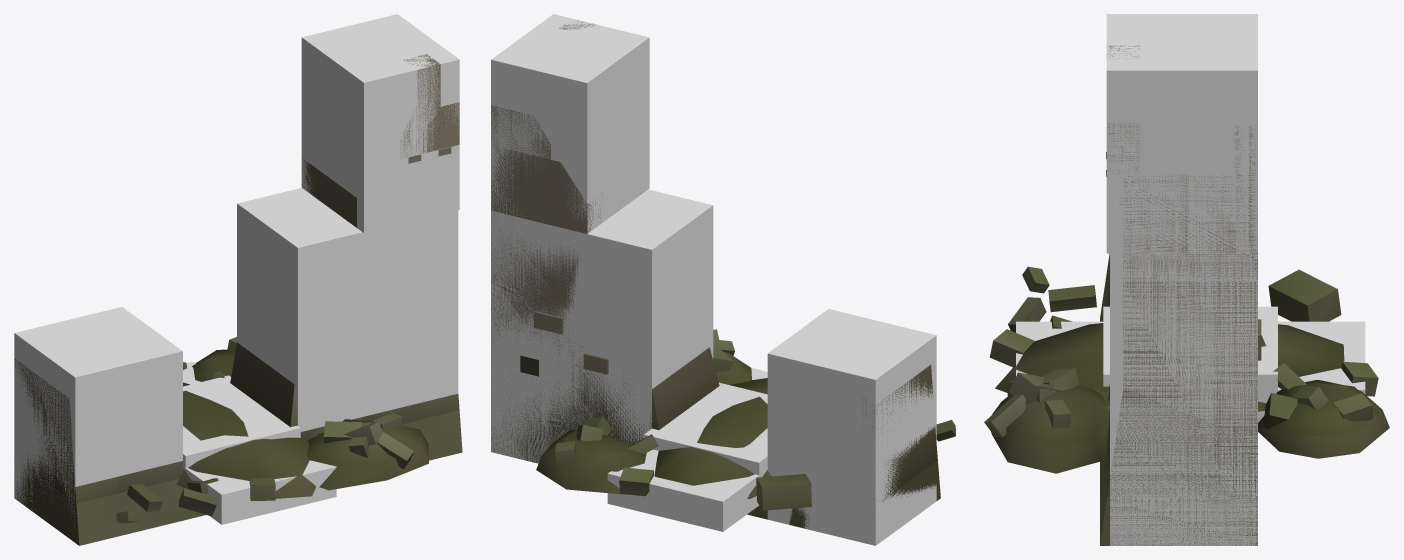
File: castle_wall_ruin_b.glb
3 renders of one model, left to right at view 1: azimuth 30°, elevation 25°; view 2: azimuth 150°, elevation 25°; view 3: azimuth 270°, elevation 25°, orthographic. The views are drawn at different scales.
Parts seen in each view (by area): view 1: COL_right, castle_wall_ruin_b, COL_right_high, COL_left, WALK_breach_b, WALK_breach_a; view 2: COL_right, castle_wall_ruin_b, COL_left, COL_right_high, WALK_breach_a, WALK_breach_b; view 3: castle_wall_ruin_b, COL_right, COL_right_high, WALK_breach_a, WALK_breach_b.
Part boxes in pixels (x1,y1,x2,y2): COL_right: (237, 187, 458, 431); castle_wall_ruin_b: (14, 54, 462, 545); COL_right_high: (301, 14, 459, 232); COL_left: (14, 307, 182, 527); WALK_breach_b: (183, 375, 300, 470); WALK_breach_a: (183, 361, 336, 524); COL_right: (491, 189, 713, 463); castle_wall_ruin_b: (491, 20, 955, 528); COL_left: (767, 309, 936, 545); COL_right_high: (491, 14, 649, 233); WALK_breach_a: (607, 368, 767, 531); WALK_breach_b: (643, 382, 767, 475); castle_wall_ruin_b: (984, 45, 1389, 545); COL_right: (1110, 253, 1257, 545); COL_right_high: (1106, 14, 1257, 253); WALK_breach_a: (1016, 321, 1365, 422); WALK_breach_b: (1103, 306, 1277, 414).
Bounding box in the file's own units: 8 × 7.8 × 6.04.
